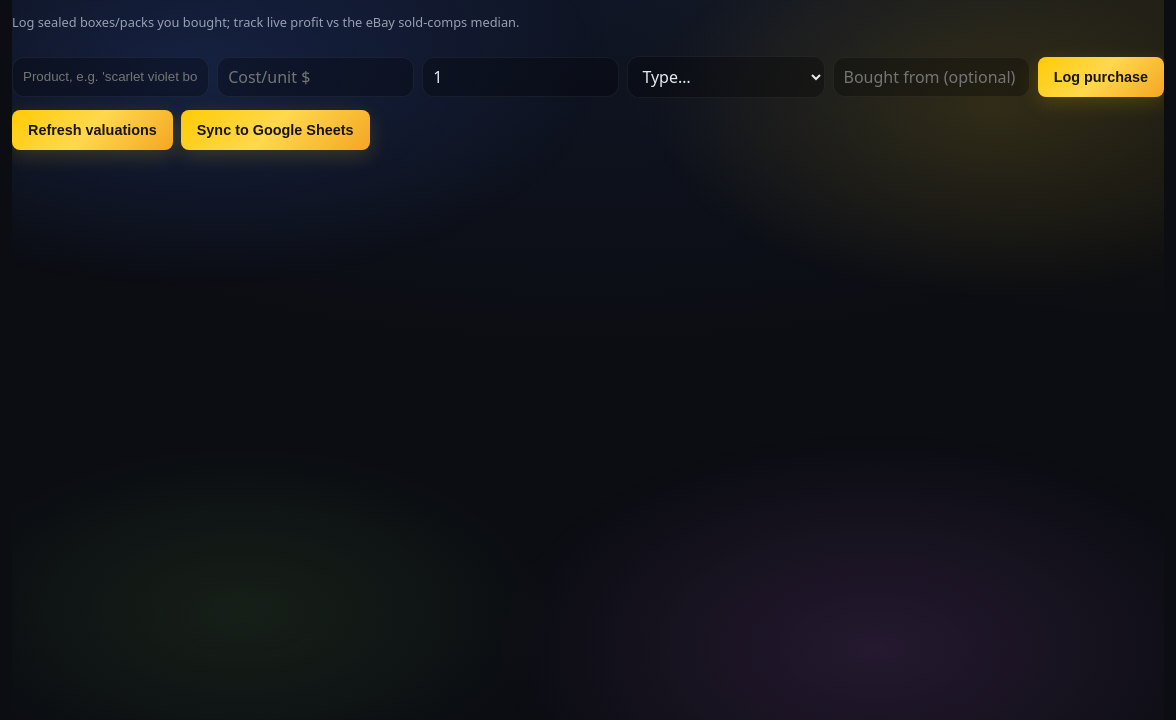
it: SealedLedger › syncs to Google Sheets and reports rows
What coordinates should you click on to do the following:
click the button "Sync to Google Sheets"
I would click on:
 (275, 130)
Its box is 181,110 -> 370,150.
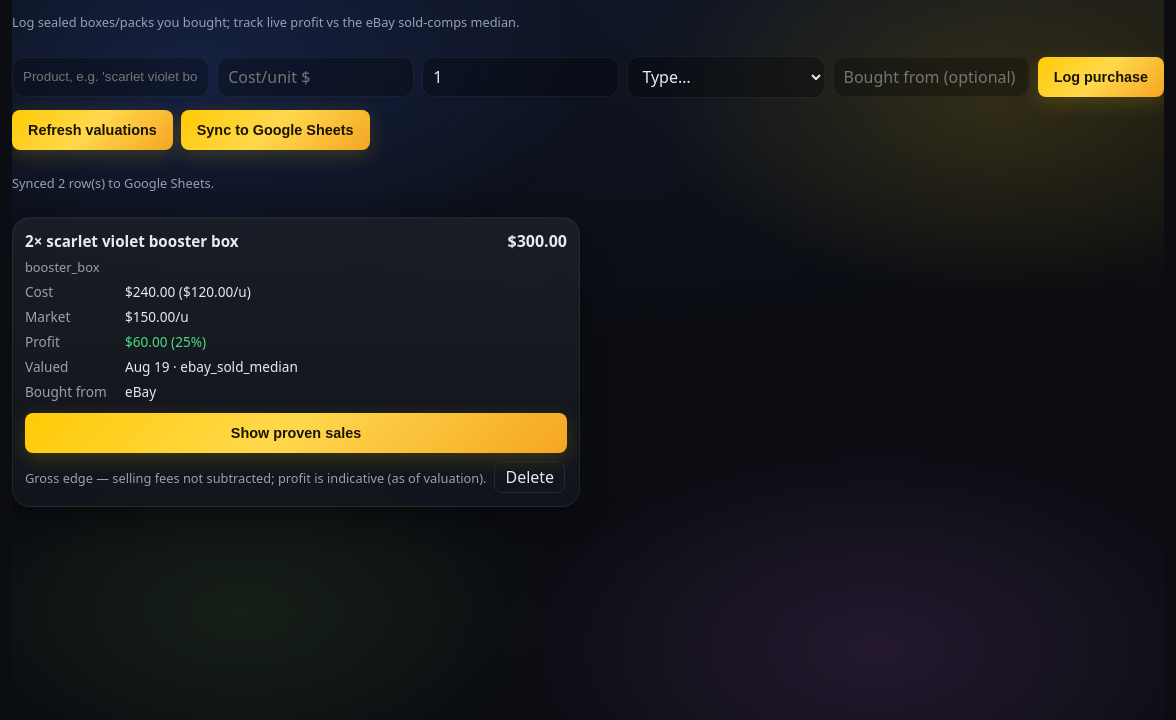
expect the text "Synced 2 row" is shown: met, box 12,174 -> 214,192
